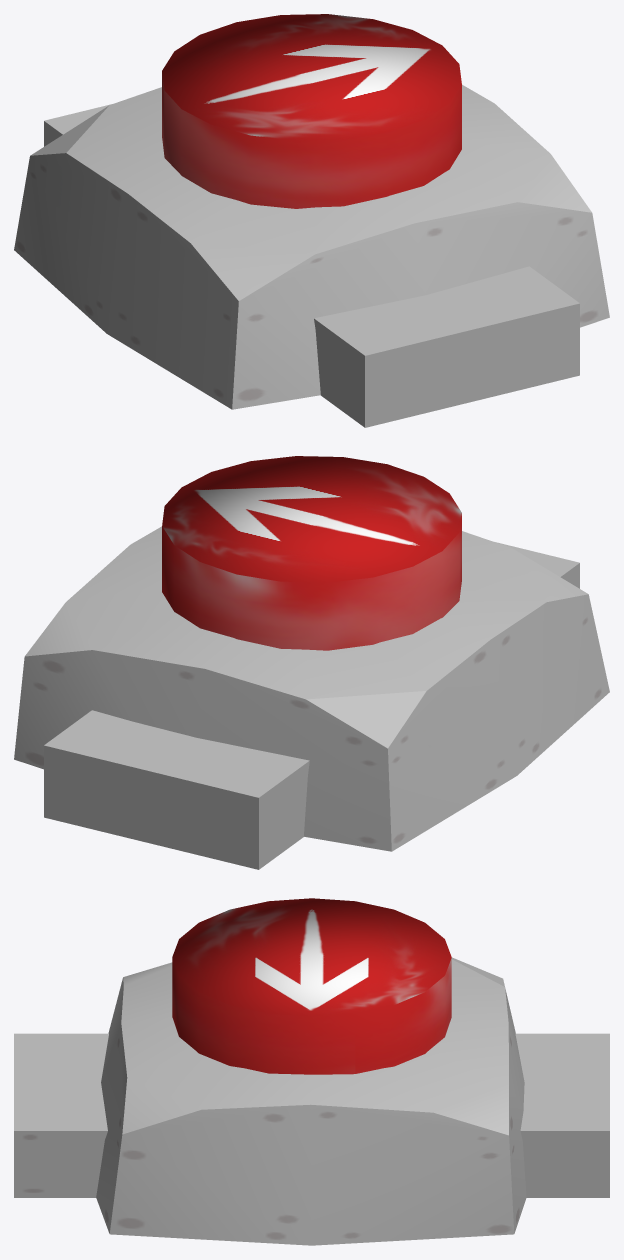
File: switch.fbx
3 views of the same model, one above another, from view 1: azimuth 30°, elevation 25°; view 2: azimuth 150°, elevation 25°; view 3: azimuth 270°, elevation 25° (orthographic). The views are drawn at different scales.
Visible parts, largest first — view 1: switch1; view 2: switch1; view 3: switch1.
Boxes of the visible parts, x1=… form: switch1: x1=14, y1=14, x2=609, y2=427; switch1: x1=14, y1=456, x2=609, y2=869; switch1: x1=14, y1=898, x2=609, y2=1245.
Bounding box in the file's own units: 11.38 × 5.37 × 15.12.
